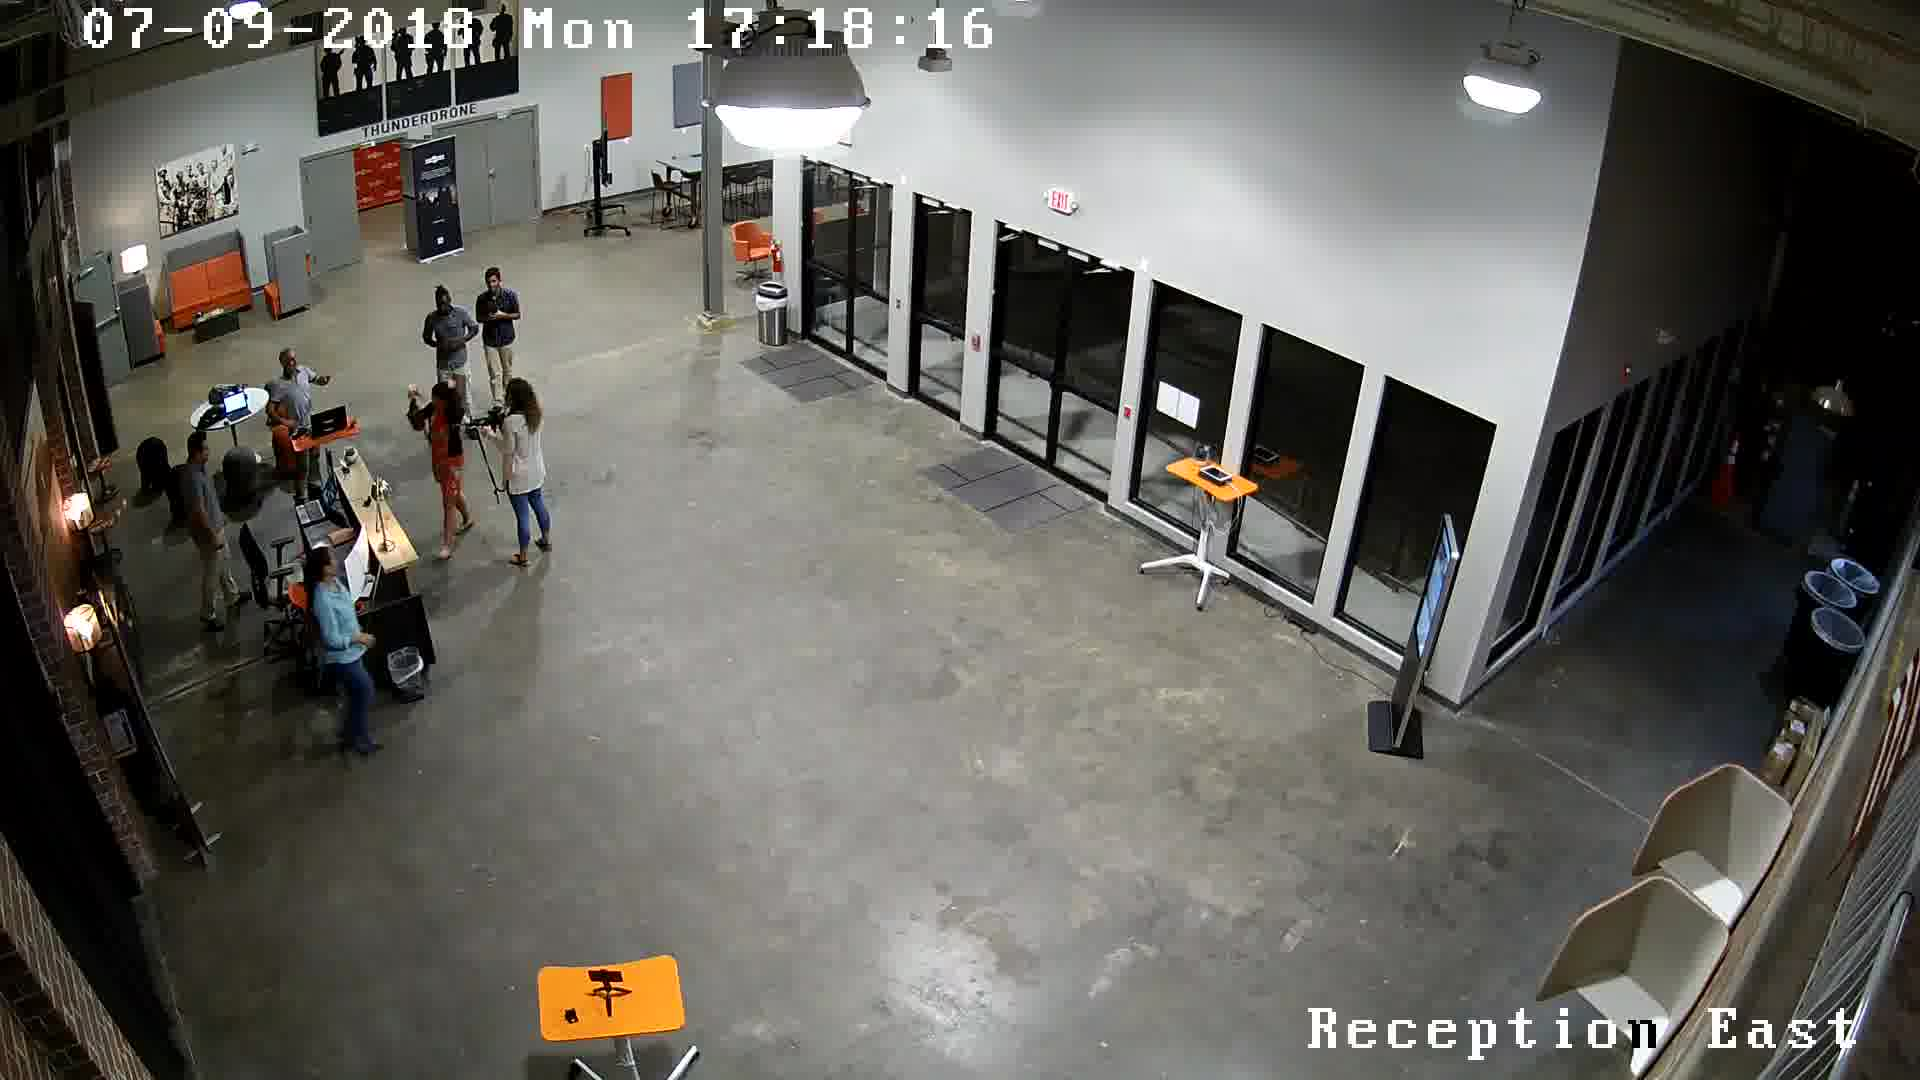pistol: (438, 332, 459, 355), (487, 305, 498, 320)
